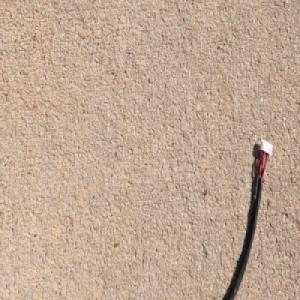Wire: (220, 135, 273, 300)
